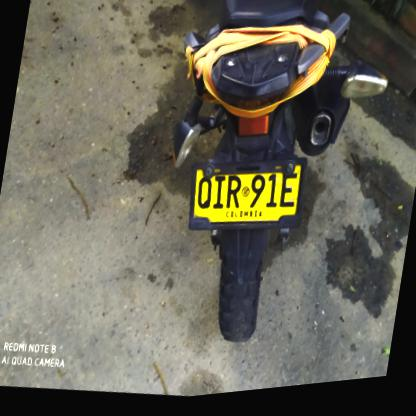placa: (176, 140, 316, 257)
